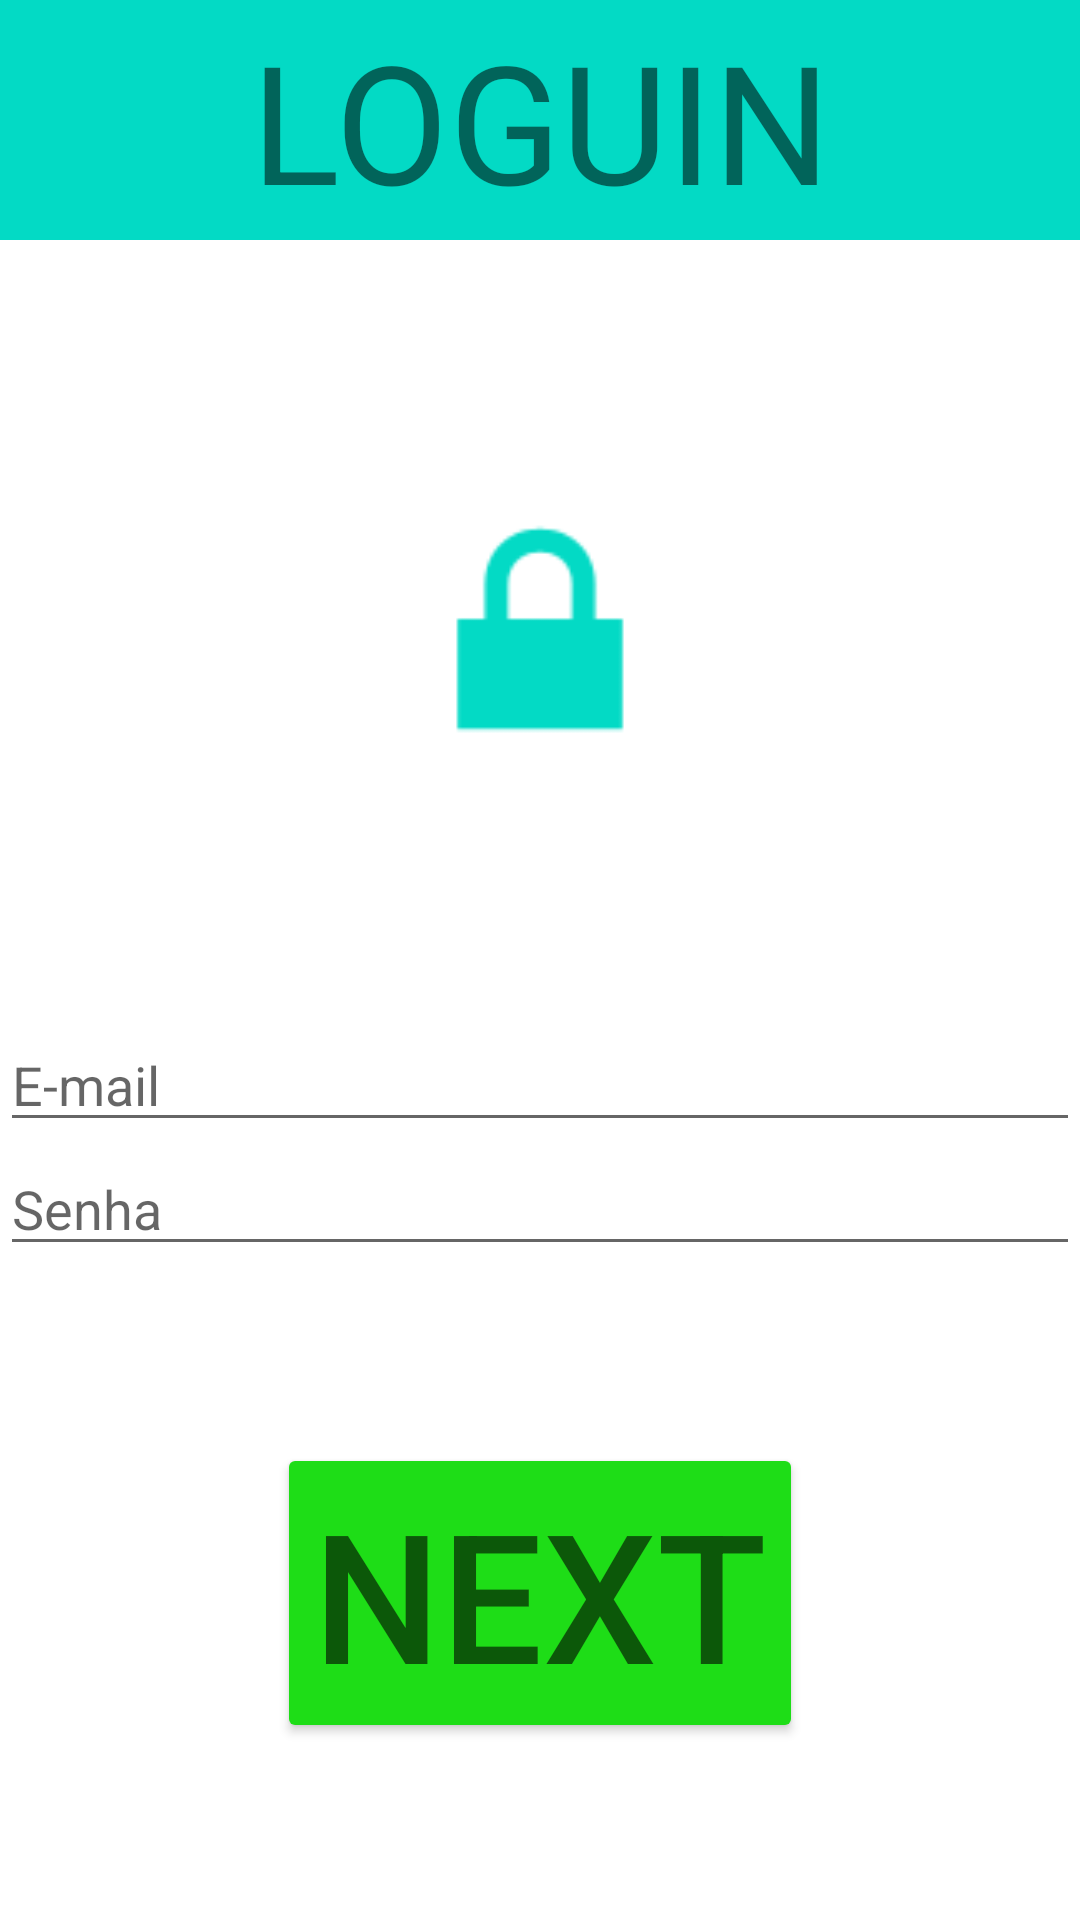

Where icons sit on this 1080×1920 app screen, as {"left": x1, "top": y1, "right": x2, "bottom": y2}:
lock: {"left": 456, "top": 526, "right": 624, "bottom": 732}
